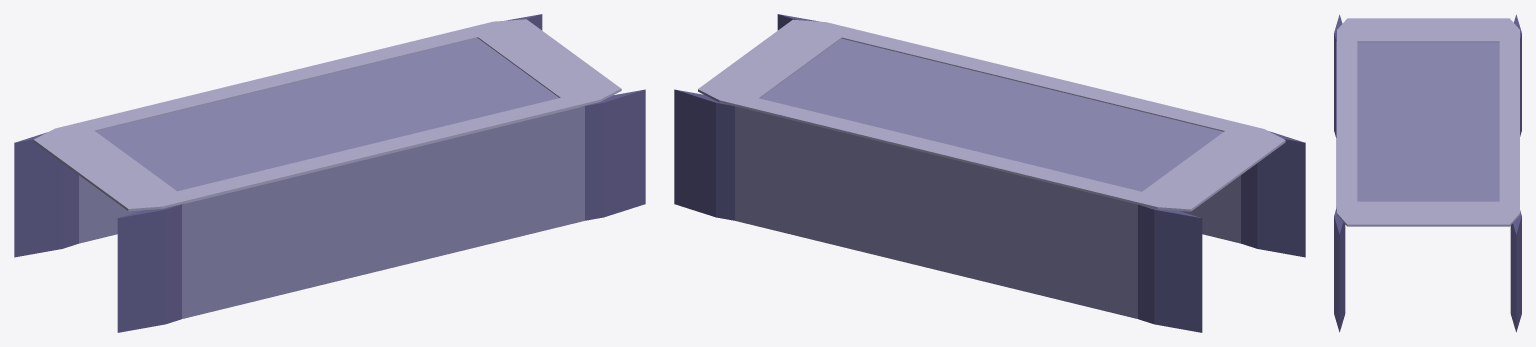
File: BackgroundBase.fbx
3 renders of one model, left to right at view 1: azimuth 30°, elevation 25°; view 2: azimuth 150°, elevation 25°; view 3: azimuth 270°, elevation 25°, orthographic. The views are drawn at different scales.
Parts seen in each view (by area): view 1: mergedBlocks; view 2: mergedBlocks; view 3: mergedBlocks.
Boxes of the visible parts, x1,y1,x2,y2 form: mergedBlocks: (14,14,645,332); mergedBlocks: (674,14,1305,332); mergedBlocks: (1334,14,1521,332).
Size of the model in its own units: 482 by 102 by 173.
